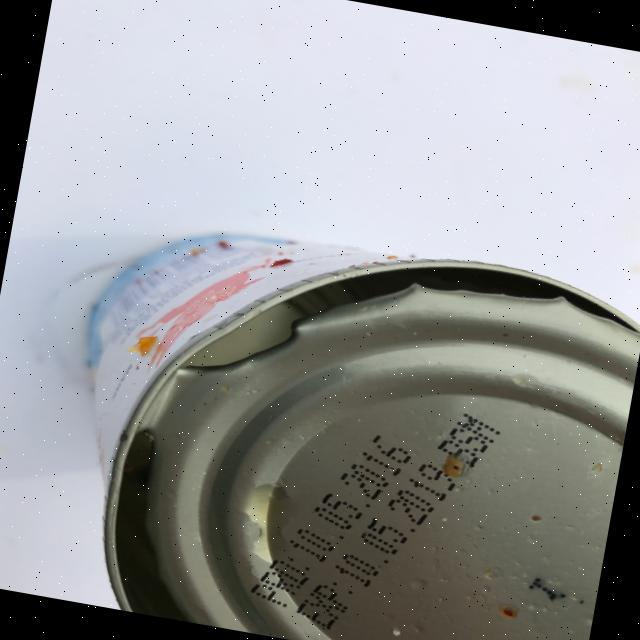metal: (38, 194, 640, 640)
